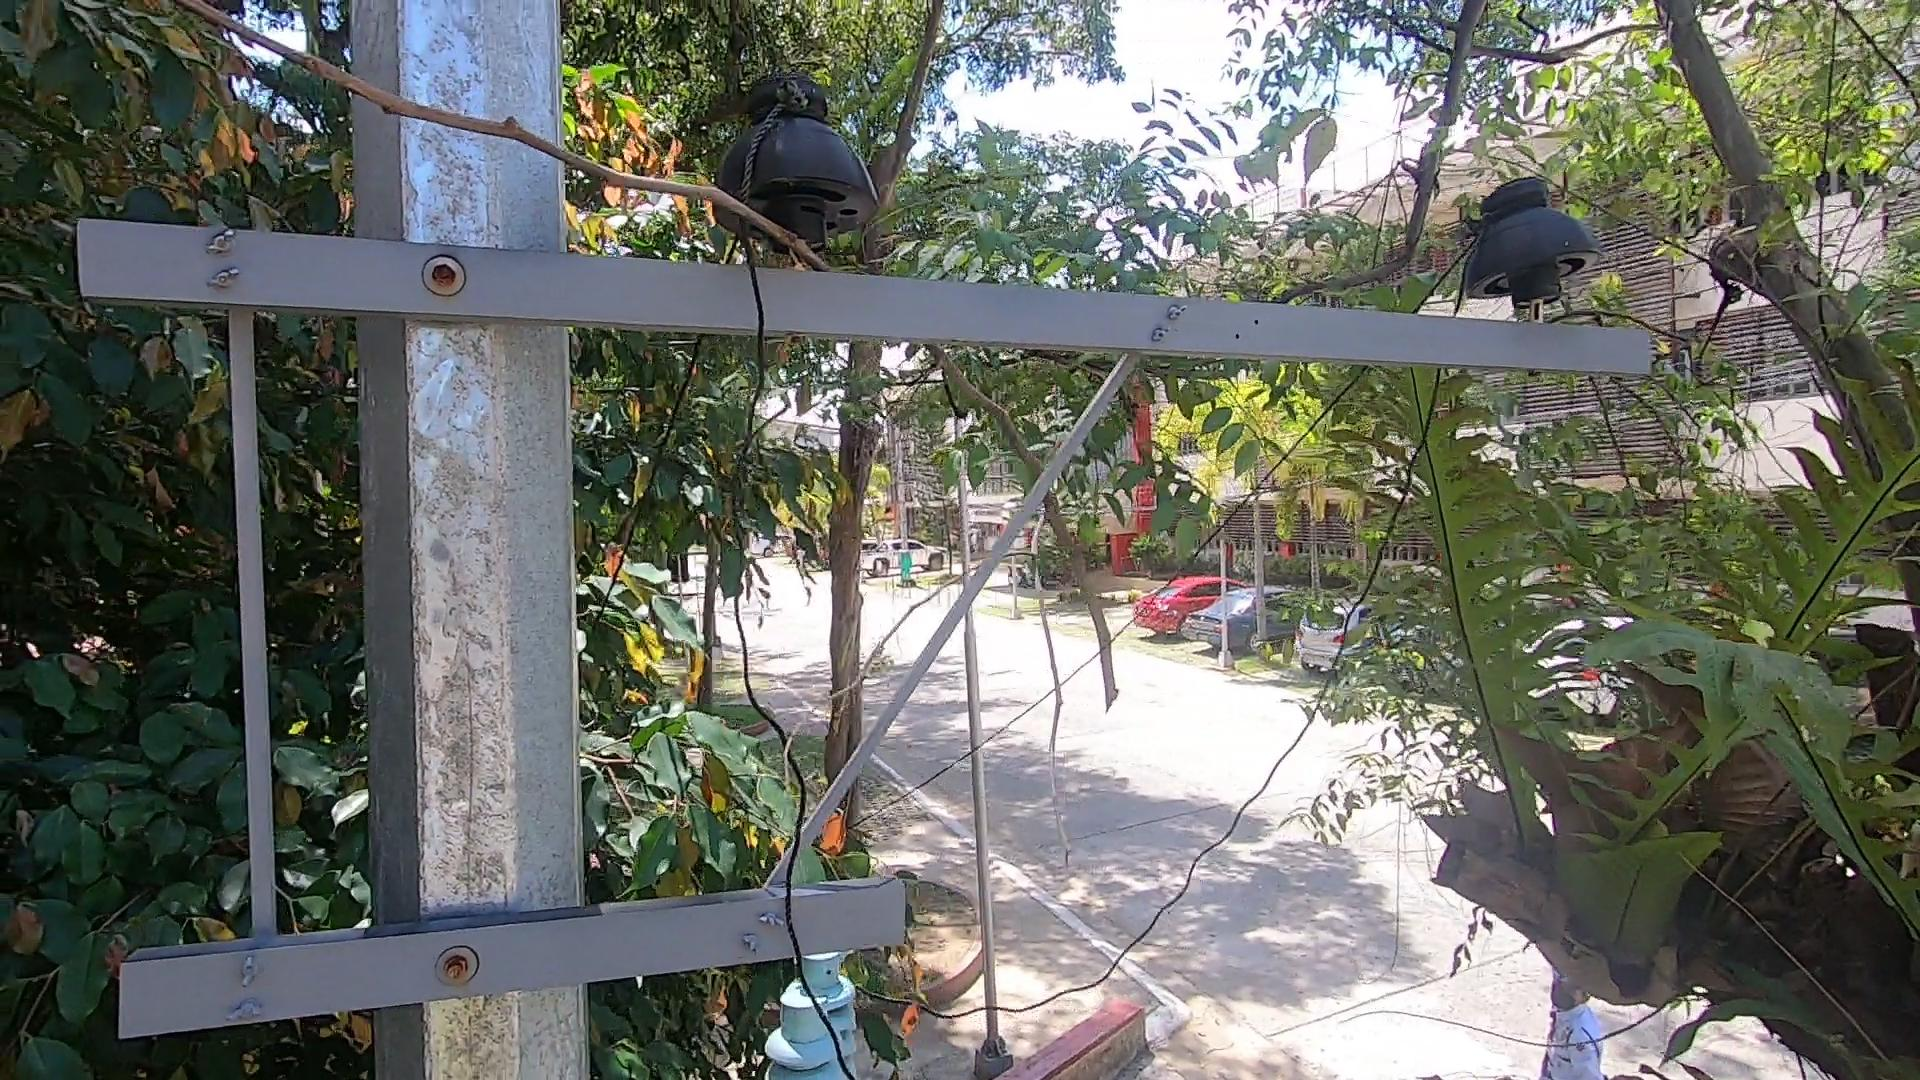branch with leaves: (766, 811, 889, 887)
tree branch: (123, 1, 1147, 691)
